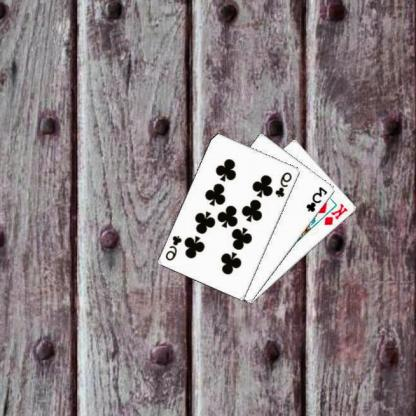3C: (305, 184, 331, 213)
9C: (274, 169, 295, 199), (165, 233, 185, 262)
KD: (323, 200, 351, 226)
